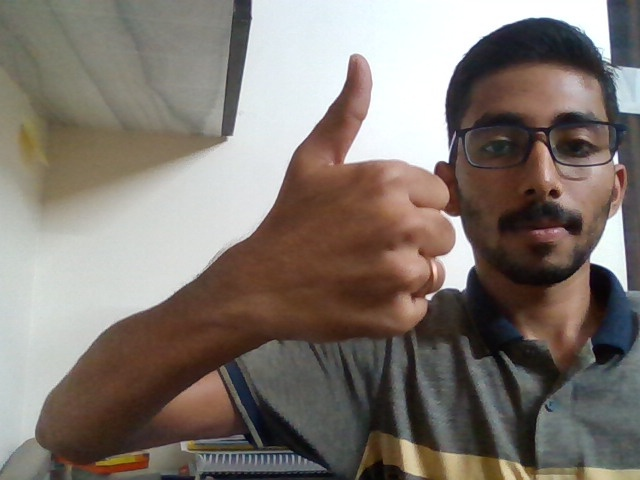Yes: (204, 38, 472, 363)
